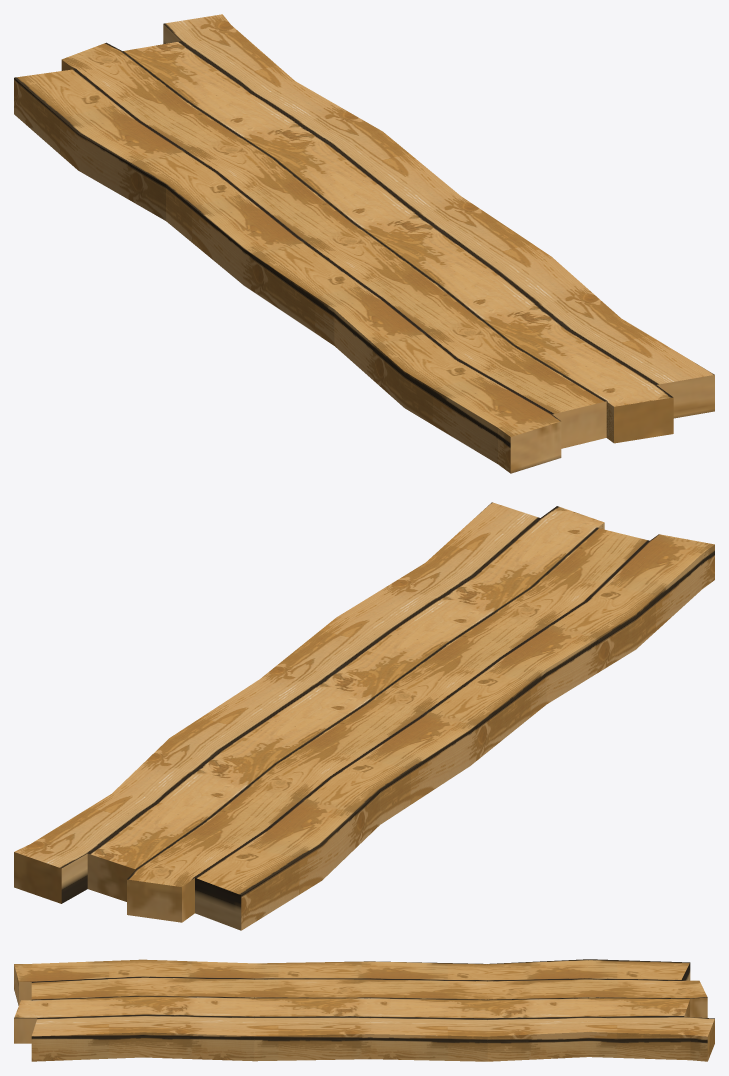
File: woodPlatformBroken.fbx
3 renders of one model, top to bottom at view 1: azimuth 30°, elevation 25°; view 2: azimuth 150°, elevation 25°; view 3: azimuth 270°, elevation 25°, orthographic. The views are drawn at different scales.
Visible parts, largest first — view 1: shard4, shard6, shard5, shard1, shard7, shard3, shard2; view 2: shard6, shard4, shard5, shard7, shard1, shard3, shard2; view 3: shard6, shard1, shard2, shard4, shard3, shard5, shard7.
Part boxes in pixels (x1,y1,x2,y2): shard4: [334, 222, 613, 473]; shard6: [14, 14, 273, 220]; shard5: [166, 158, 388, 345]; shard1: [513, 256, 714, 443]; shard7: [275, 158, 564, 344]; shard3: [187, 25, 382, 157]; shard2: [275, 131, 549, 255]; shard6: [14, 764, 379, 930]; shard4: [365, 523, 714, 704]; shard5: [275, 656, 546, 824]; shard7: [275, 577, 530, 763]; shard1: [337, 502, 604, 617]; shard3: [31, 738, 274, 843]; shard2: [170, 618, 335, 763]; shard6: [487, 959, 714, 1061]; shard1: [14, 996, 254, 1061]; shard2: [254, 1000, 487, 1061]; shard4: [14, 959, 368, 1005]; shard3: [487, 995, 690, 1061]; shard5: [254, 961, 487, 1000]; shard7: [143, 996, 485, 1035].
Bounding box in the file's own units: 1.32 × 0.2 × 5.05.
